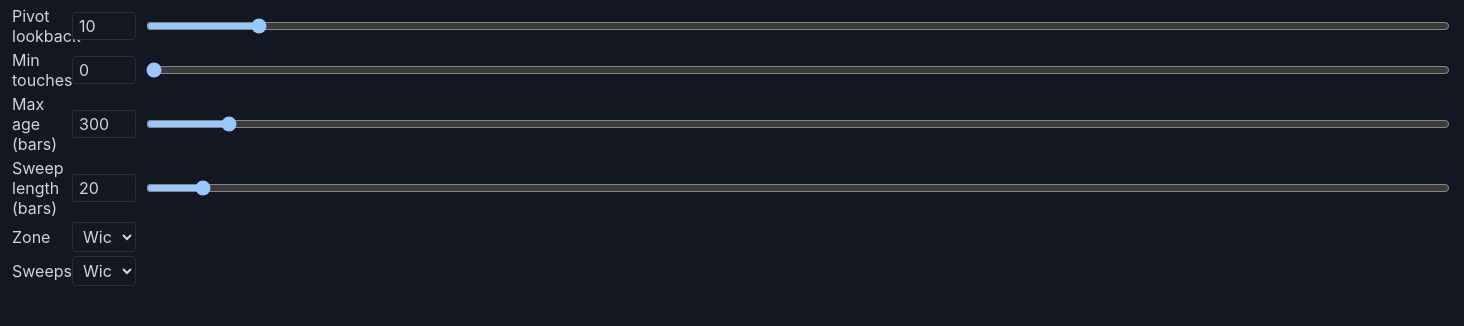
Test: ParamsEditor select fields › does not apply an invalid number while a select is set
Replace the text in the number field labelled "Pivot lookback" with "1": (104, 26) x1=72 y1=12 x2=136 y2=40
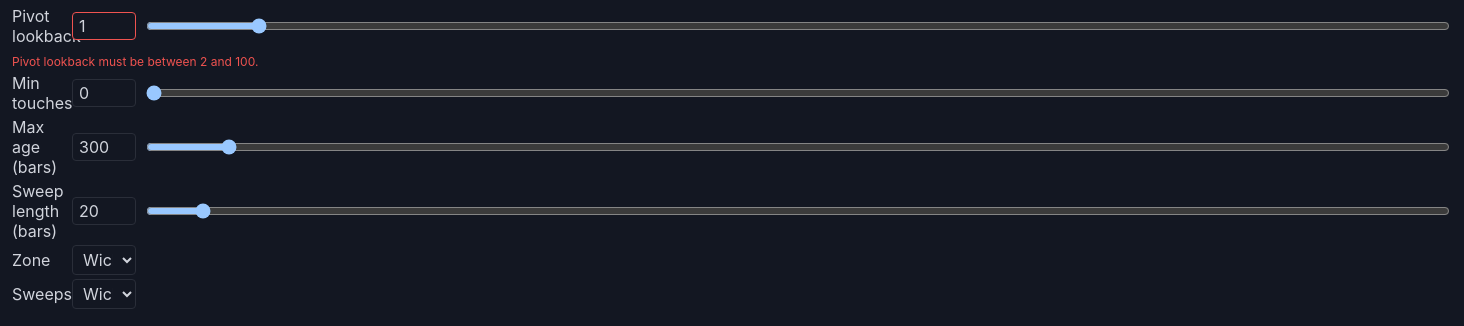
Result: the message shows "between 2 and 100" at x1=12 y1=54 x2=258 y2=69
